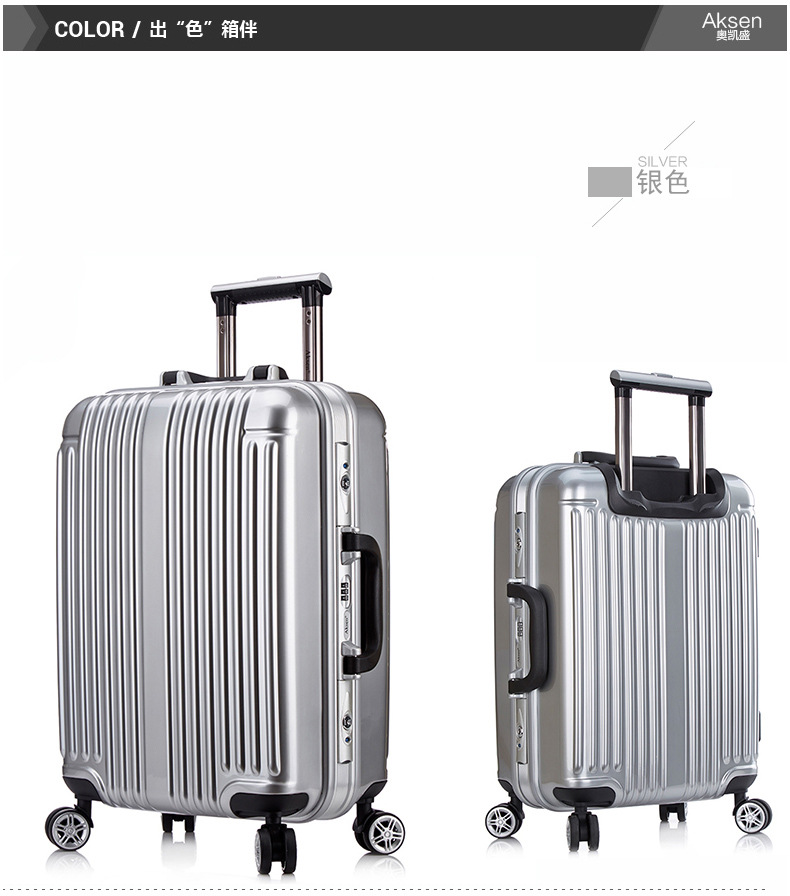luggage: (45, 272, 406, 877), (483, 369, 774, 853)
